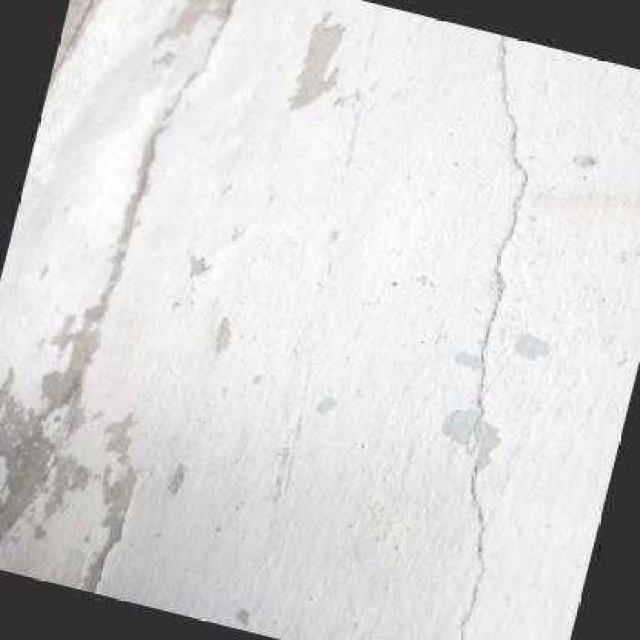D00: (455, 35, 531, 640)
